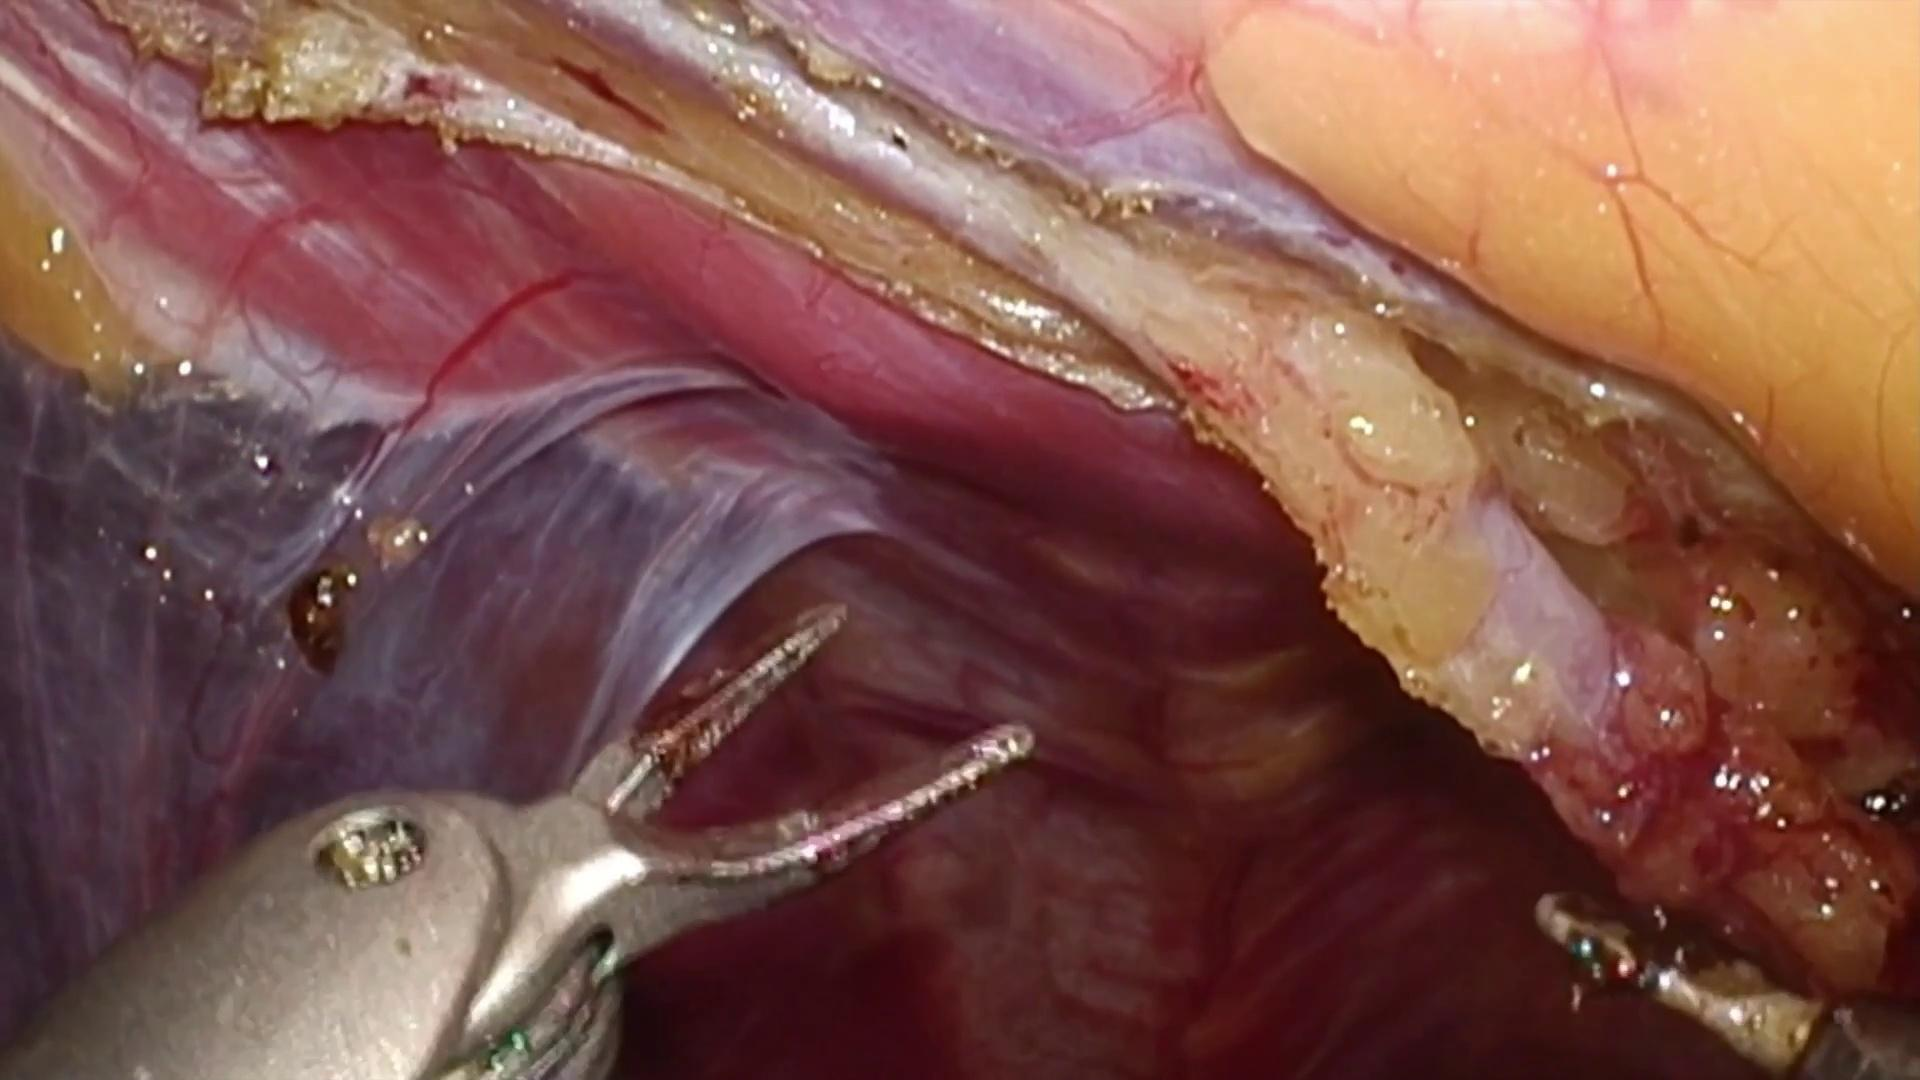Cautery_Spatula: (1524, 885, 1920, 1080)
Debakey: (436, 591, 1048, 943)
